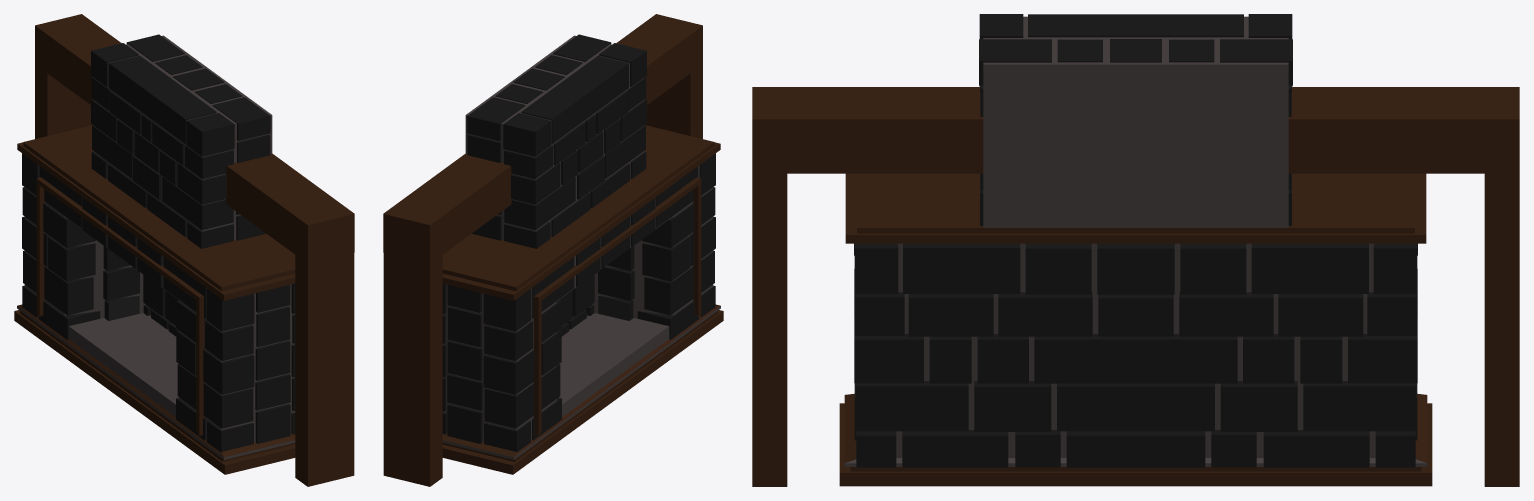
The model's file is Fireplace.fbx.
3 renders of one model, left to right at view 1: azimuth 30°, elevation 25°; view 2: azimuth 150°, elevation 25°; view 3: azimuth 270°, elevation 25°, orthographic. The views are drawn at different scales.
Parts seen in each view (by area): view 1: Cube; view 2: Cube; view 3: Cube.
Boxes of the visible parts, bbox=[...] form: Cube: bbox=[14, 14, 354, 486]; Cube: bbox=[383, 14, 723, 486]; Cube: bbox=[752, 14, 1519, 486].
Size of the model in its own units: 178 by 474 by 777.
